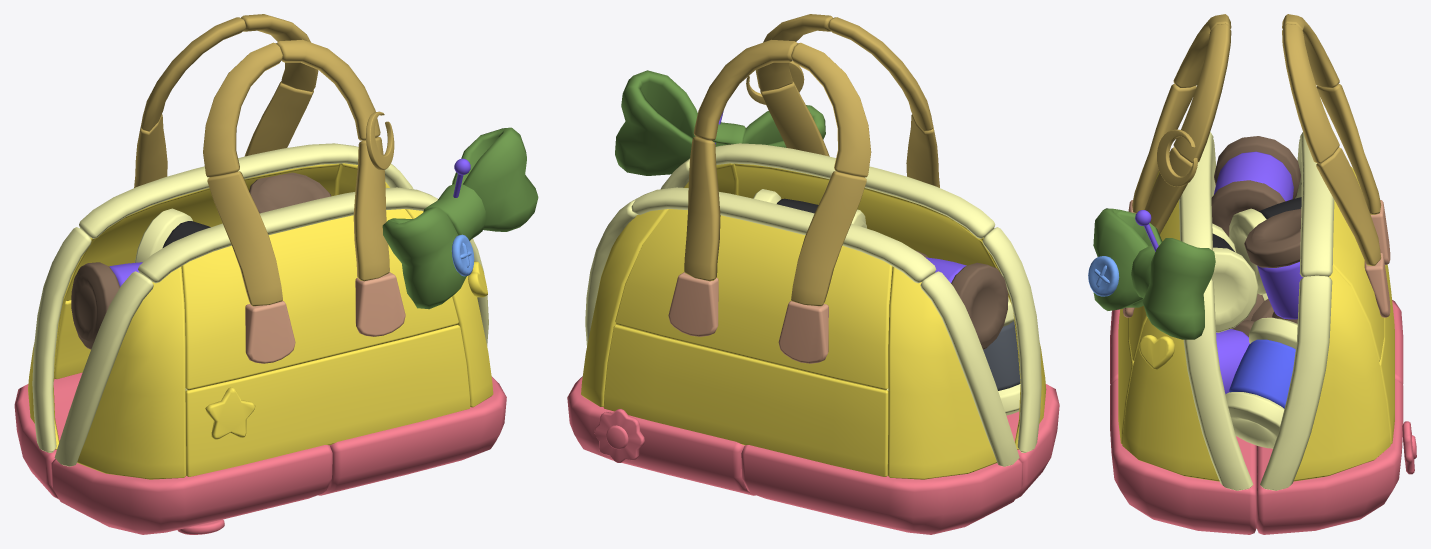
The model's file is DomeHandbag.fbx.
3 views of the same model, side by side, from view 1: azimuth 30°, elevation 25°; view 2: azimuth 150°, elevation 25°; view 3: azimuth 270°, elevation 25° (orthographic). The views are drawn at different scales.
Parts seen in each view (by area): view 1: S_DomeHandbag, M_DomeHandbag, D_Bag_3, D_Bag_11, D_DomeHandbag_; view 2: S_DomeHandbag, M_DomeHandbag, D_Bag_1; view 3: S_DomeHandbag, M_DomeHandbag, D_Bag_11, D_DomeHandbag_, D_Bag_6, D_Bag_1.
Part boxes in pixels (x1,y1,x2,y2): S_DomeHandbag: [28, 14, 538, 479]; M_DomeHandbag: [14, 172, 506, 534]; D_Bag_3: [205, 387, 255, 439]; D_Bag_11: [366, 111, 394, 169]; D_DomeHandbag_: [451, 234, 474, 276]; S_DomeHandbag: [581, 14, 1046, 479]; M_DomeHandbag: [567, 189, 1059, 534]; D_Bag_1: [594, 409, 644, 462]; S_DomeHandbag: [1093, 14, 1394, 490]; M_DomeHandbag: [1110, 136, 1403, 534]; D_Bag_11: [1157, 129, 1197, 186]; D_DomeHandbag_: [1088, 256, 1119, 296]; D_Bag_6: [1138, 335, 1174, 369]; D_Bag_1: [1402, 421, 1416, 474].
Size of the model in its own units: 593 by 562 by 387.
